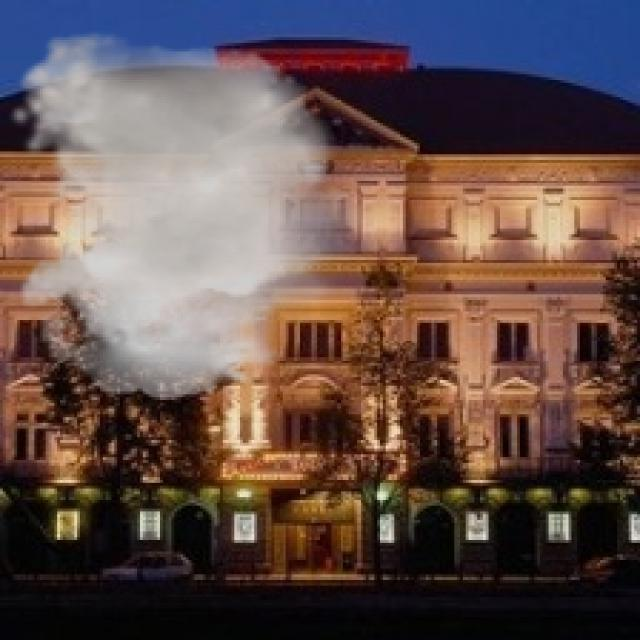smoke: (6, 31, 383, 400)
